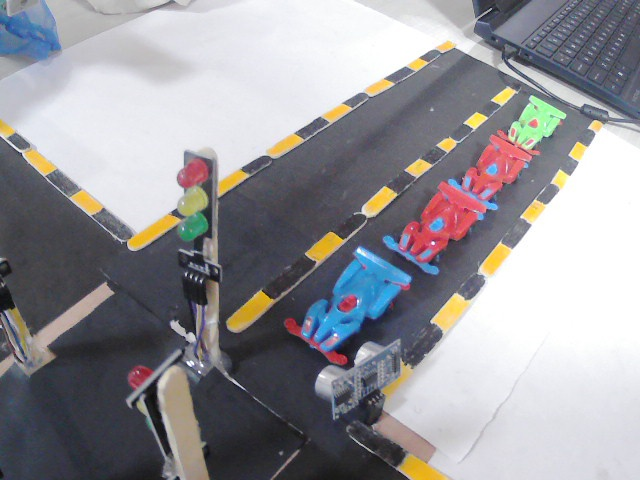car: (283, 246, 420, 368), (387, 175, 508, 268), (462, 134, 535, 194), (505, 88, 564, 145)
traffic_light: (114, 351, 175, 461), (155, 168, 215, 249)
uno_breadboard: (303, 335, 418, 411)
